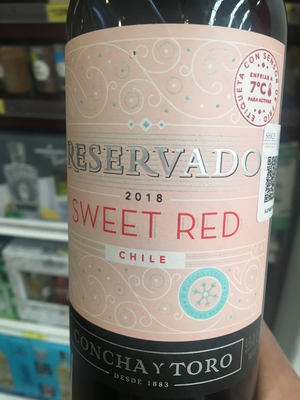reservado sweet red: (53, 5, 288, 388)
